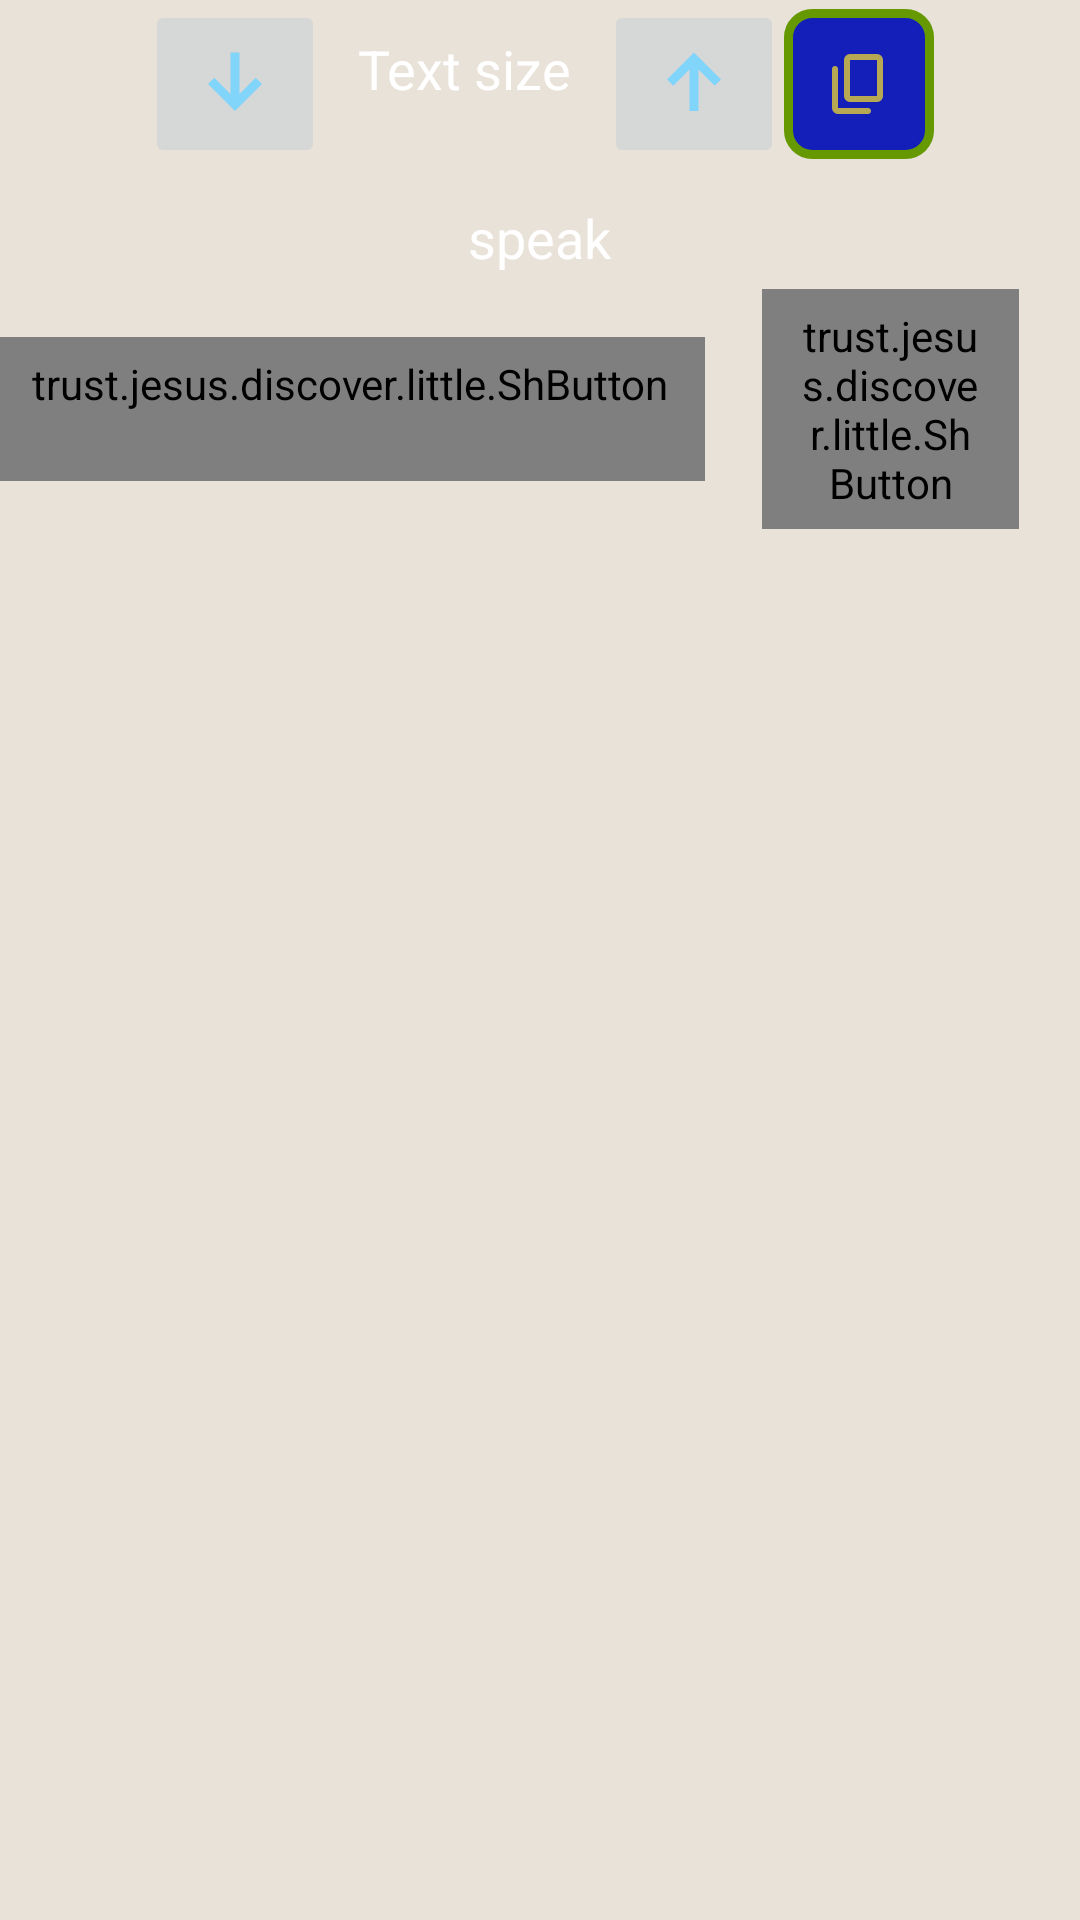

Locate icon controls on the screen. Image size 1080px×1920px, boxes as detection(x1, y1, x2, y2).
arrow downward: detection(157, 18, 313, 150)
arrow upward: detection(616, 18, 772, 150)
